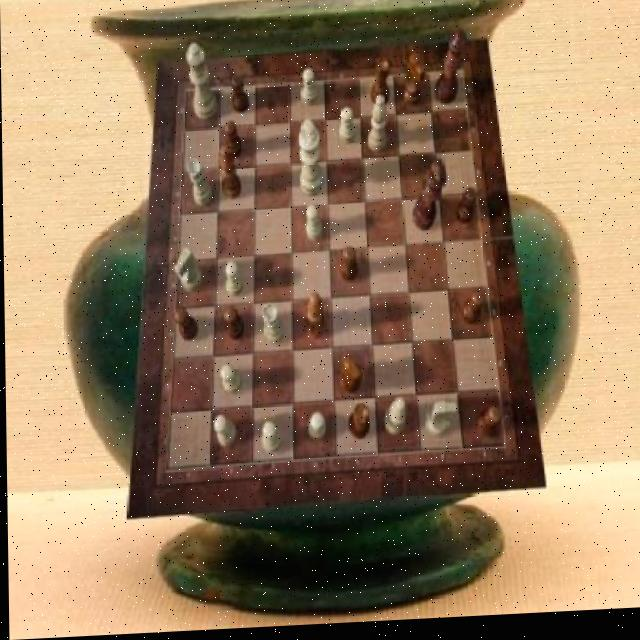bishop: (218, 147, 241, 202), (304, 296, 326, 343)
black-bishop: (410, 163, 446, 237)
black-king: (401, 58, 426, 111), (337, 357, 360, 397)
black-knight: (454, 193, 477, 230), (459, 296, 483, 331), (173, 309, 197, 344), (475, 410, 501, 442), (222, 309, 243, 344), (224, 122, 242, 161), (230, 78, 248, 117), (339, 250, 357, 286)
black-pawn: (433, 33, 467, 109)
black-queen: (369, 63, 389, 111), (347, 405, 368, 444)
black-rook: (366, 98, 386, 156), (382, 400, 405, 440)
white-bishop: (297, 122, 322, 201)
white-king: (172, 250, 200, 296), (423, 406, 456, 442)
white-knight: (211, 415, 234, 450), (219, 366, 242, 396), (224, 263, 242, 300), (337, 110, 354, 149), (259, 424, 279, 457), (304, 207, 321, 245), (300, 72, 317, 110), (307, 416, 325, 444)
white-pawn: (184, 44, 216, 122)
white-queen: (185, 161, 210, 209), (260, 304, 283, 347)
